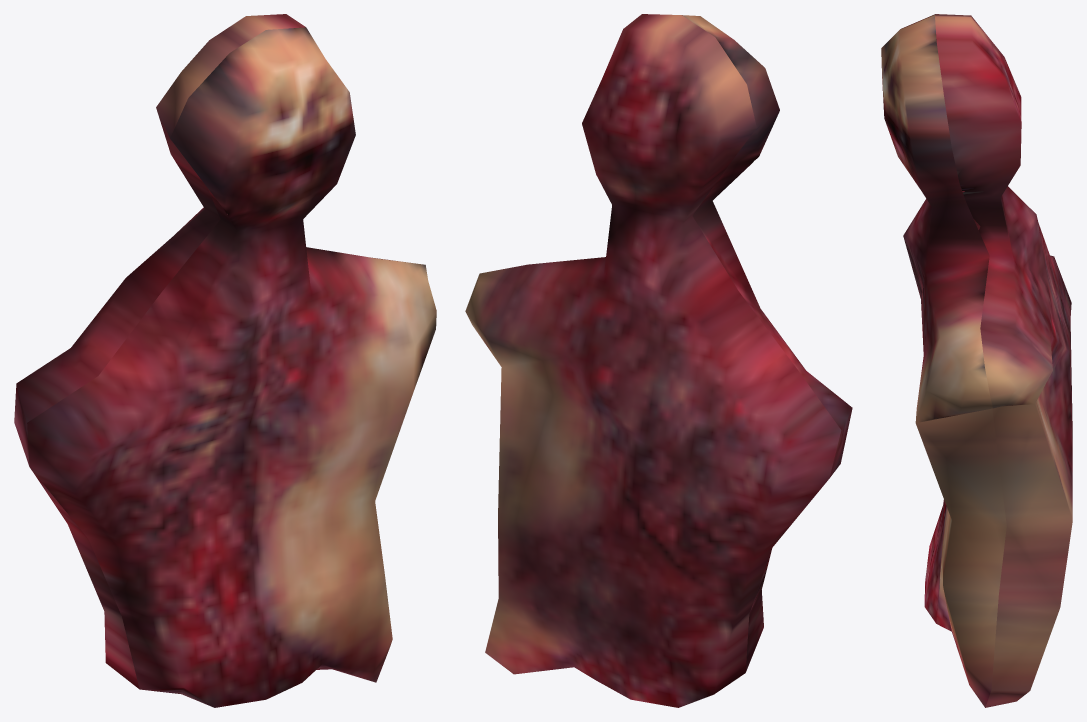
Rendered from human_meat_2.FBX.
3 views of the same model, side by side, from view 1: azimuth 30°, elevation 25°; view 2: azimuth 150°, elevation 25°; view 3: azimuth 270°, elevation 25° (orthographic). The views are drawn at different scales.
Visible parts, largest first — view 1: human_meat_2; view 2: human_meat_2; view 3: human_meat_2.
Part boxes in pixels (box(x1,y1,x2,y2)): human_meat_2: box(14, 14, 436, 707); human_meat_2: box(465, 14, 852, 707); human_meat_2: box(881, 14, 1072, 707).
Bounding box in the file's own units: 43.93 × 74.86 × 20.59.
